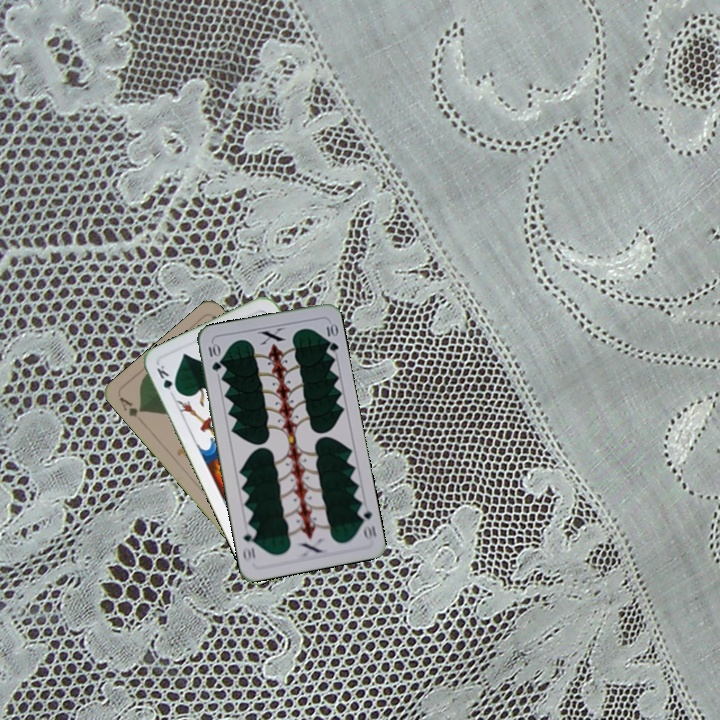G10: (354, 502, 379, 543), (204, 340, 224, 374)
GA: (115, 393, 146, 420)
GK: (153, 361, 181, 399)
